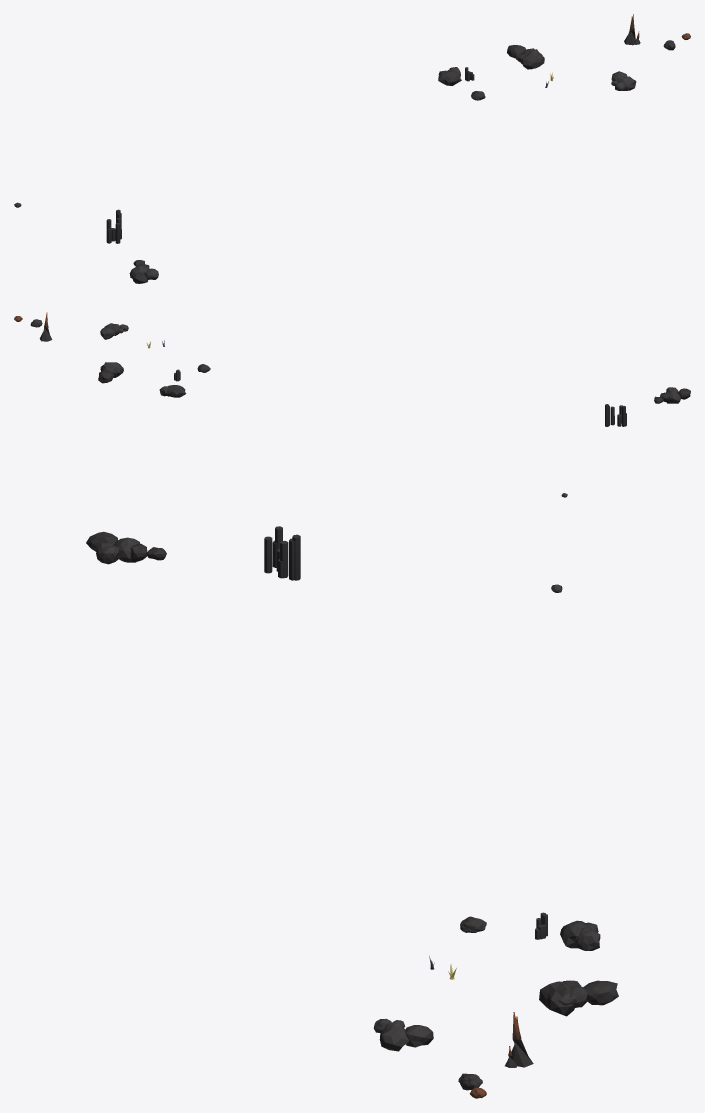
File: ash_land_scatter_c19_28.glb
3 renders of one model, top to bottom at view 1: azimuth 30°, elevation 25°; view 2: azimuth 150°, elevation 25°; view 3: azimuth 270°, elevation 25°, orthographic. The views are drawn at different scales.
Visible parts, largest first — view 1: ash_land_scatter_c19_28; view 2: ash_land_scatter_c19_28; view 3: ash_land_scatter_c19_28.
Boxes of the visible parts, <box> form: ash_land_scatter_c19_28: <box>14,14,690,283</box>; ash_land_scatter_c19_28: <box>14,312,690,497</box>; ash_land_scatter_c19_28: <box>86,526,618,1098</box>.
Bounding box in the file's own units: 236 × 18.53 × 93.52.
